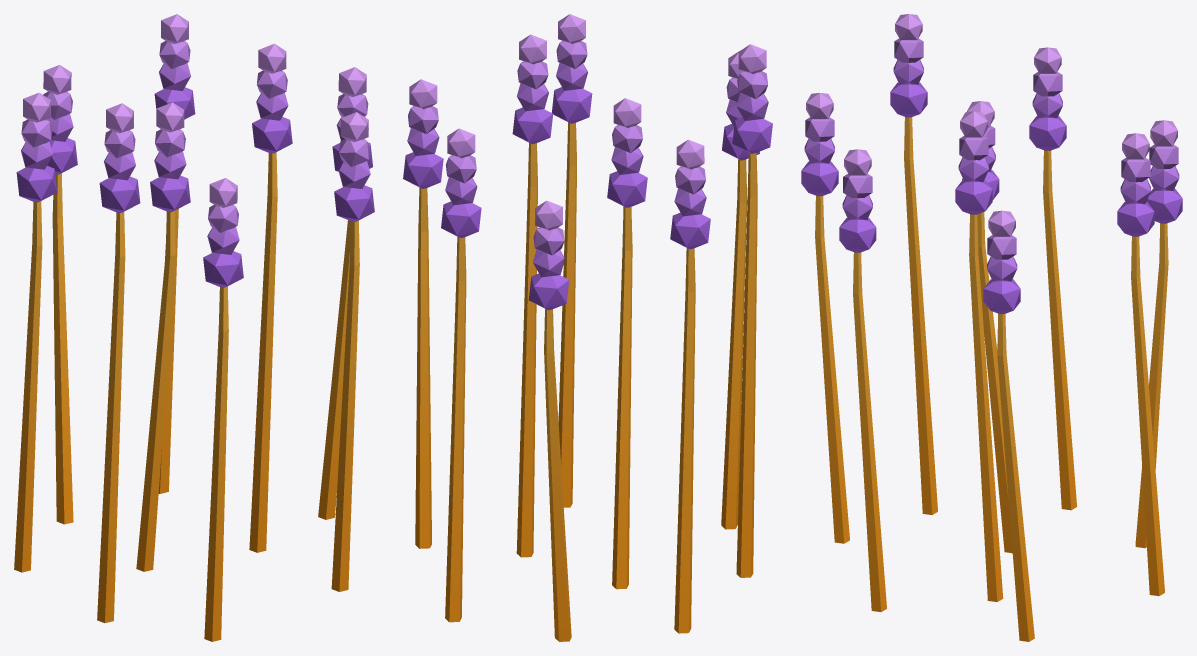
File: flowers yellow.fbx
3 views of the same model, side by side, from view 1: azimuth 30°, elevation 25°; view 2: azimuth 150°, elevation 25°; view 3: azimuth 270°, elevation 25° (orthographic). The views are drawn at different scales.
Visible parts, largest first — view 1: flowers yellow; view 2: flowers yellow; view 3: flowers yellow.
Part boxes in pixels (x1,y1,x2,y2): flowers yellow: (14,14,374,641); flowers yellow: (403,14,772,641); flowers yellow: (801,14,1182,641).
Bounding box in the file's own units: 129 × 197 × 136.
